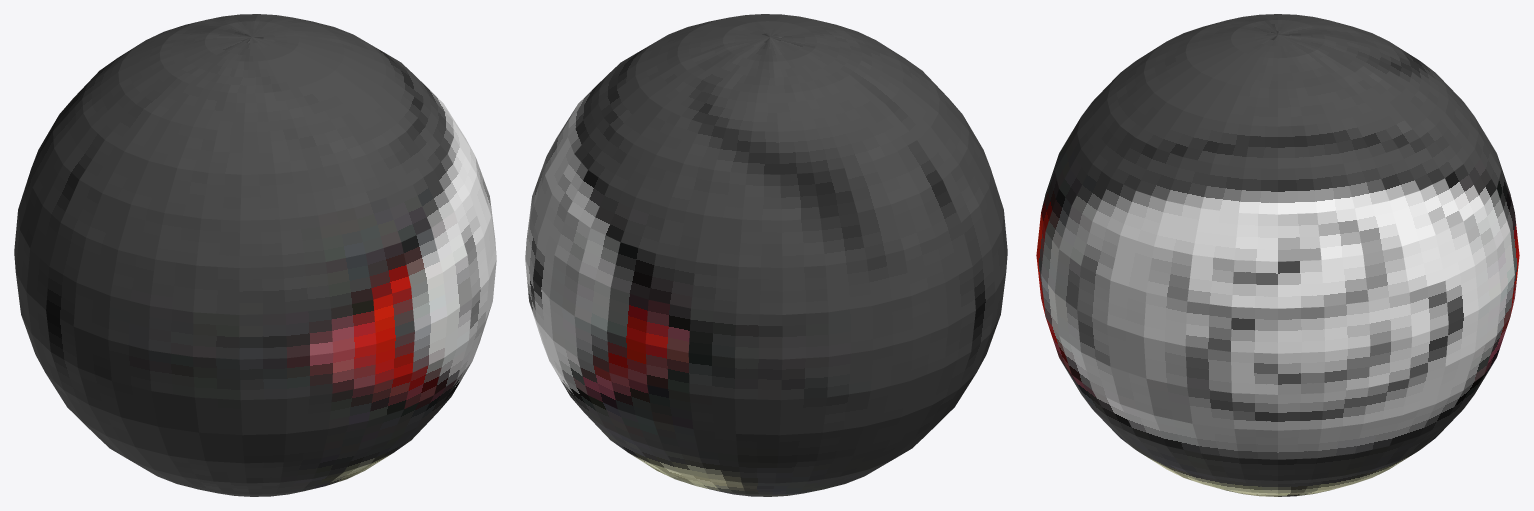
Rendered from OddballEye.fbx.
The picture shows the model from 3 angles, left to right: view 1: azimuth 30°, elevation 25°; view 2: azimuth 150°, elevation 25°; view 3: azimuth 270°, elevation 25°; orthographic projection.
Parts seen in each view (by area): view 1: Sphere; view 2: Sphere; view 3: Sphere.
Boxes of the visible parts, <box> form: Sphere: <box>14,14,496,496</box>; Sphere: <box>525,14,1007,496</box>; Sphere: <box>1036,14,1519,496</box>.
Bounding box in the file's own units: 200 × 200 × 200.
1 material, 1 textured.
